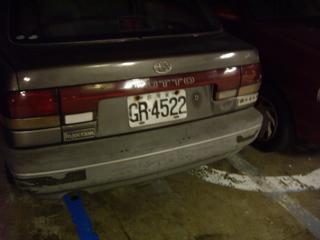plate: (127, 94, 189, 127)
